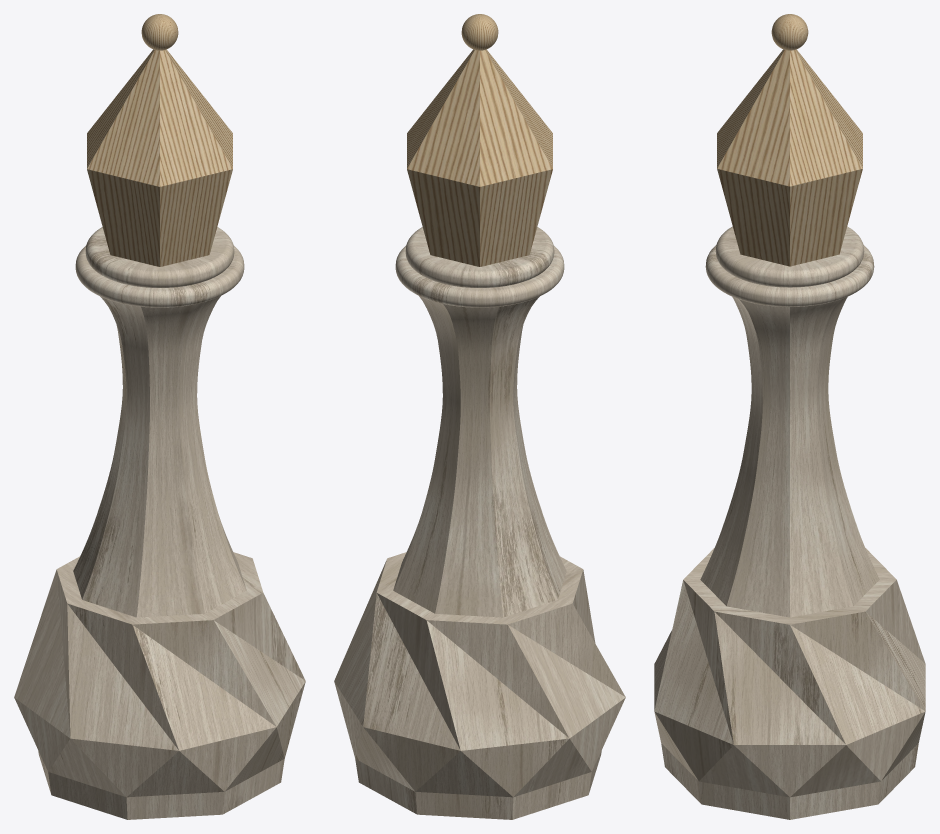
The model's file is queen-white-hd.glb.
The picture shows the model from 3 angles, left to right: view 1: azimuth 30°, elevation 25°; view 2: azimuth 150°, elevation 25°; view 3: azimuth 270°, elevation 25°; orthographic projection.
Parts seen in each view (by area): view 1: Lithoxyl_Queen_Ivory; view 2: Lithoxyl_Queen_Ivory; view 3: Lithoxyl_Queen_Ivory.
Boxes of the visible parts, bbox=[...] form: Lithoxyl_Queen_Ivory: bbox=[14, 14, 305, 819]; Lithoxyl_Queen_Ivory: bbox=[334, 14, 625, 819]; Lithoxyl_Queen_Ivory: bbox=[654, 14, 925, 819].
Size of the model in its own units: 0.5006 by 1.53 by 0.5006.
Materials: 2 (2 with a texture image).
